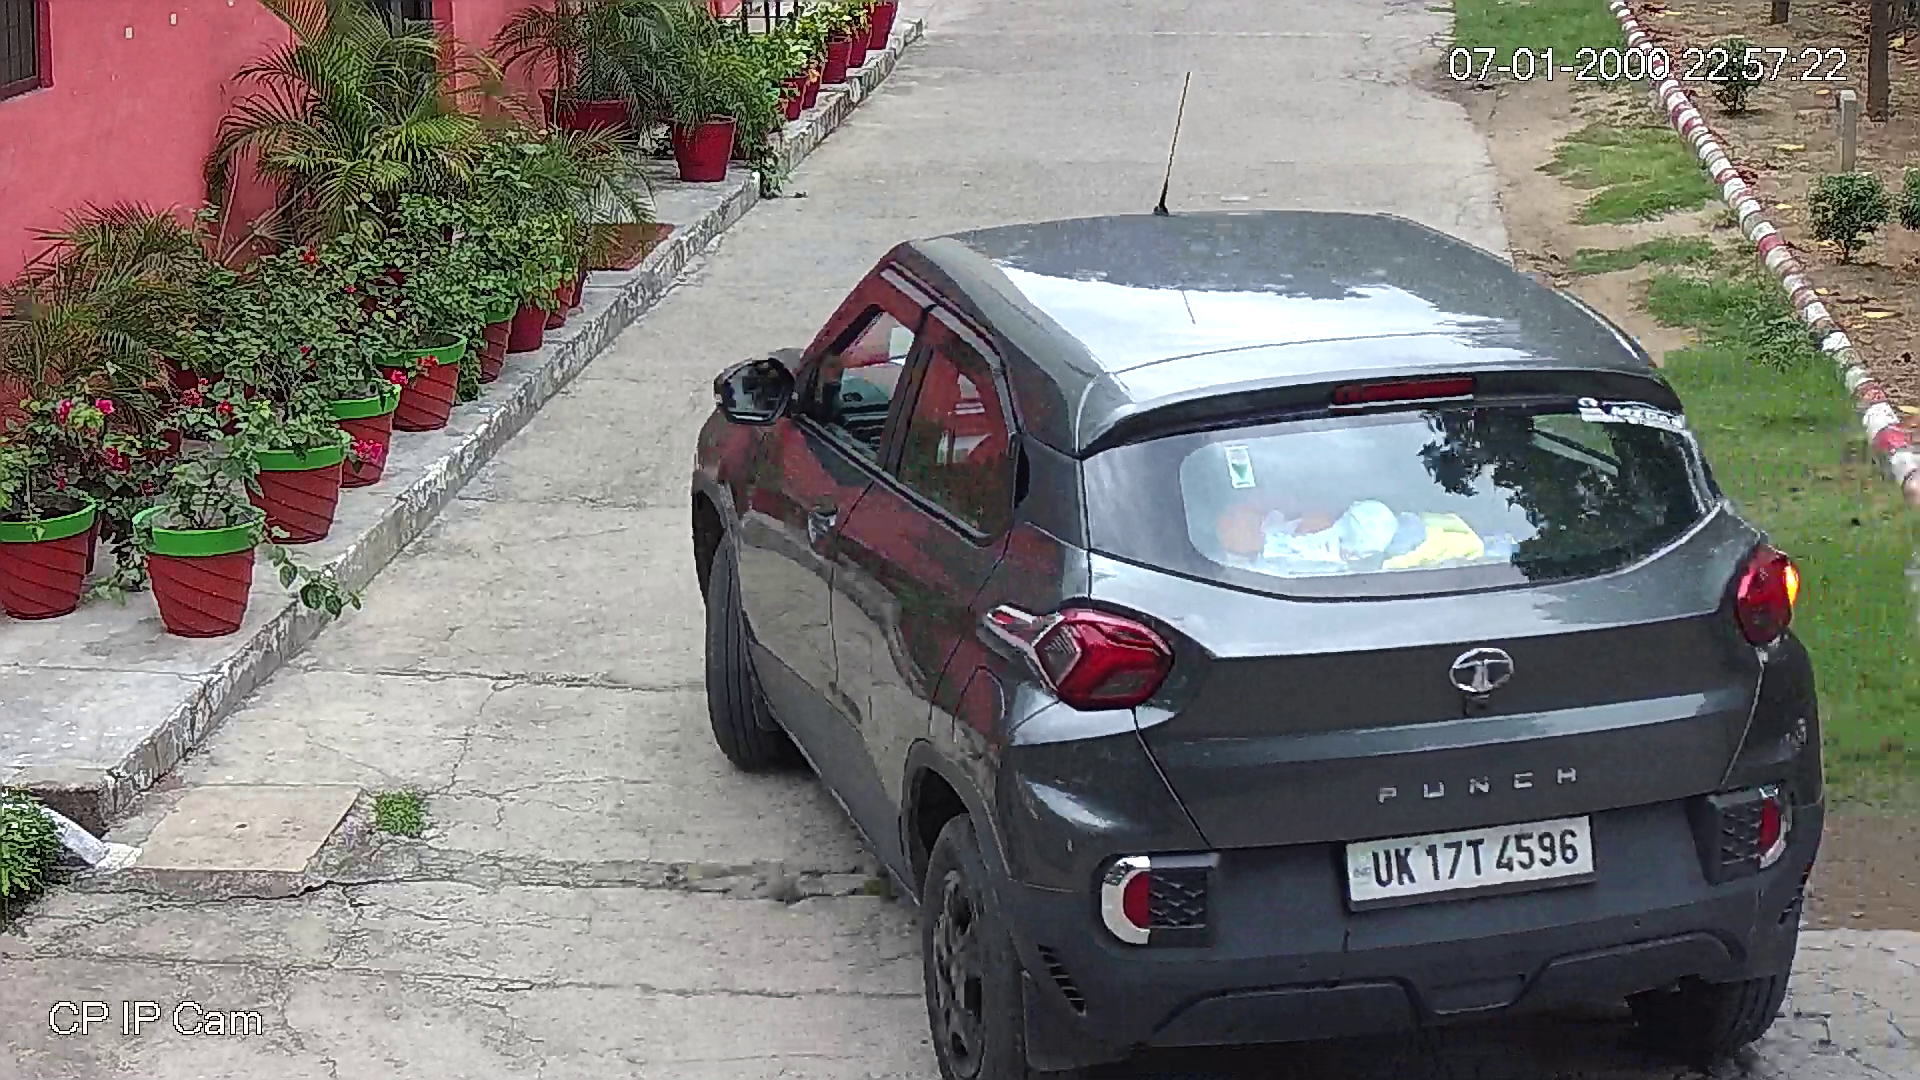plate: (1353, 817, 1593, 898)
